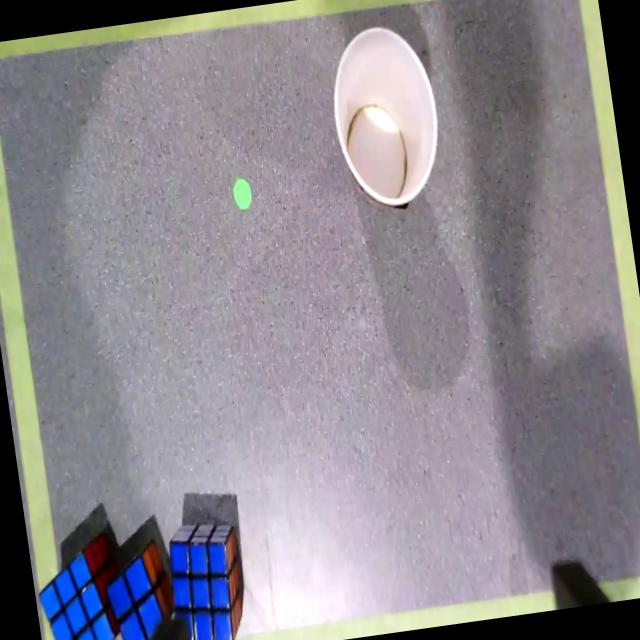cube2-blue: (107, 557, 167, 640)
cube3-blue: (38, 552, 115, 640), (169, 542, 233, 640)
